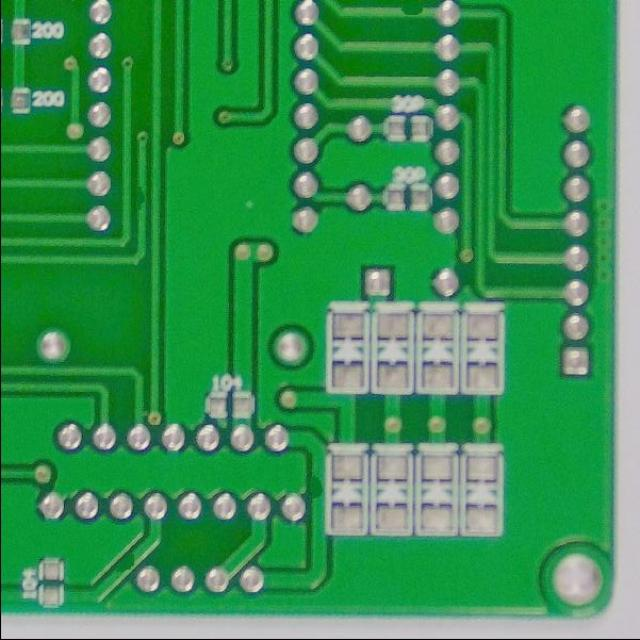mouse_bite: (110, 548, 142, 580), (128, 182, 149, 216), (304, 471, 324, 506), (394, 1, 425, 22)
